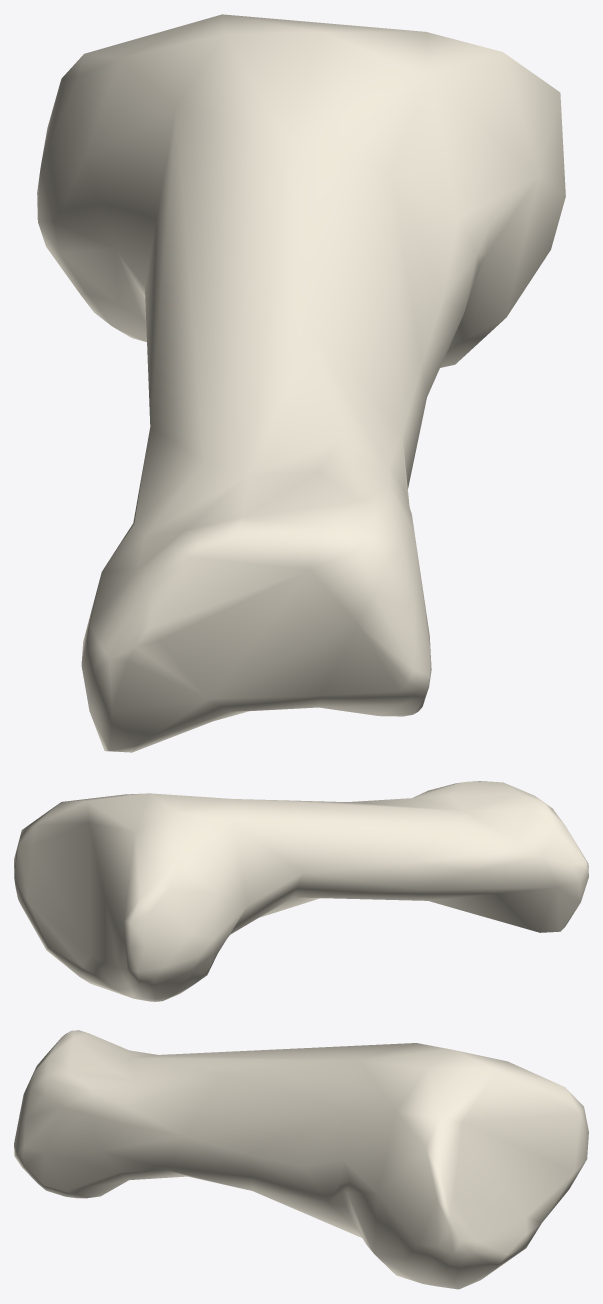
File: right-fifth-proximal-phalanx-C0U_ghdy.glb
3 views of the same model, one above another, from view 1: azimuth 30°, elevation 25°; view 2: azimuth 150°, elevation 25°; view 3: azimuth 270°, elevation 25° (orthographic). The views are drawn at different scales.
Parts seen in each view (by area): view 1: FMA32640; view 2: FMA32640; view 3: FMA32640.
Boxes of the visible parts, bbox=[...] form: FMA32640: bbox=[37, 14, 565, 752]; FMA32640: bbox=[14, 781, 588, 1001]; FMA32640: bbox=[14, 1030, 588, 1289].
Bounding box in the file's own units: 0.022 × 0.00985 × 0.0254.
